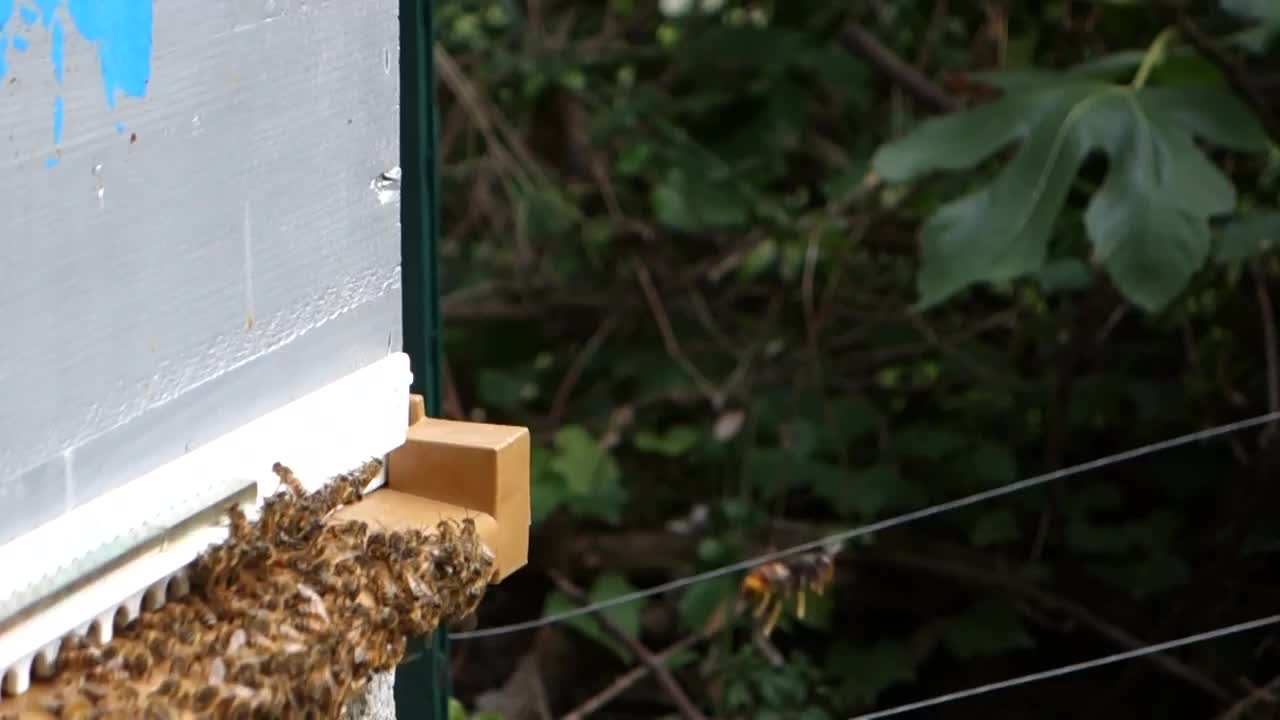bee: (284, 590, 345, 636), (377, 611, 436, 649), (59, 641, 109, 675), (184, 600, 227, 632), (219, 499, 255, 535), (405, 568, 453, 595), (222, 685, 274, 709), (360, 454, 392, 489), (273, 462, 304, 498), (447, 522, 480, 550), (368, 528, 387, 554)
hornet: (735, 547, 846, 618)
